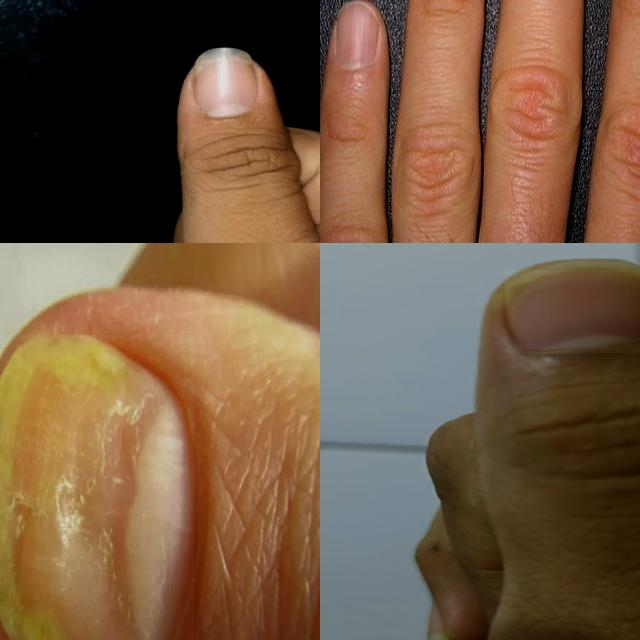diabetes: (0, 336, 194, 640)
sehat: (506, 270, 640, 353), (191, 60, 258, 117), (336, 3, 380, 71)
